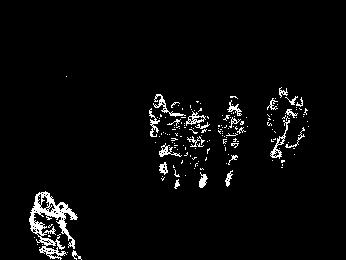person: (28, 190, 80, 260), (218, 94, 249, 188), (184, 99, 215, 189), (269, 94, 310, 161), (148, 92, 177, 185), (167, 102, 192, 189), (269, 85, 291, 165)
